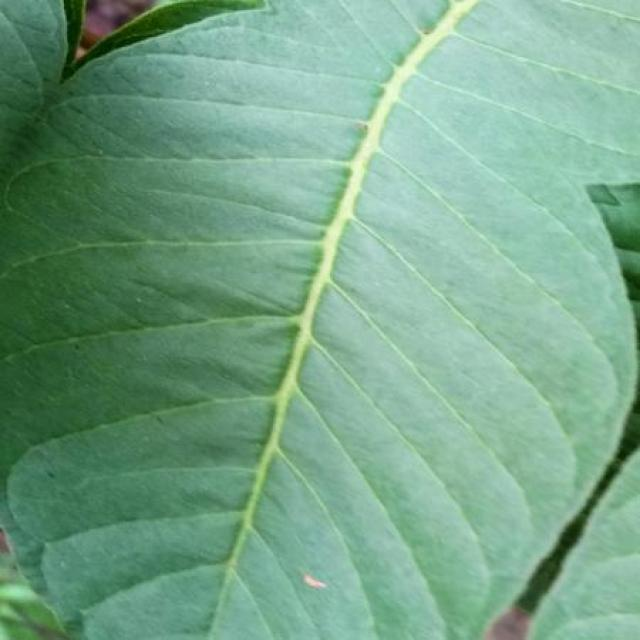Disease Free: (0, 0, 640, 640), (531, 450, 640, 639)
